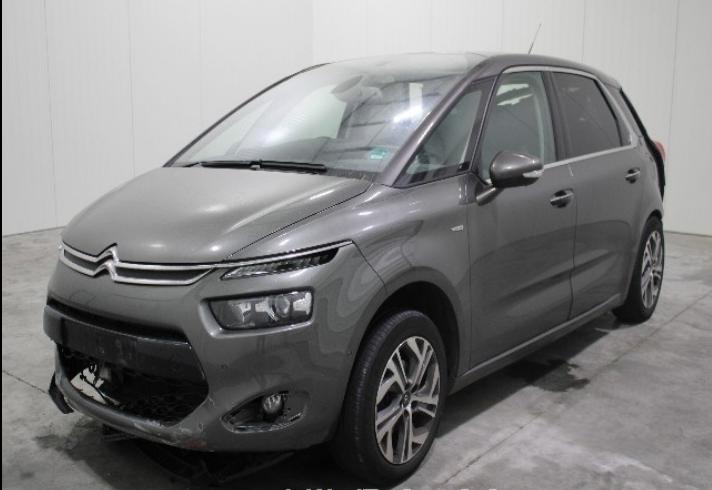Broken part: (48, 341, 85, 414)
Missing part: (57, 343, 210, 425), (222, 390, 309, 432)
Scratch: (159, 421, 215, 452), (131, 420, 162, 436), (208, 395, 216, 407)
